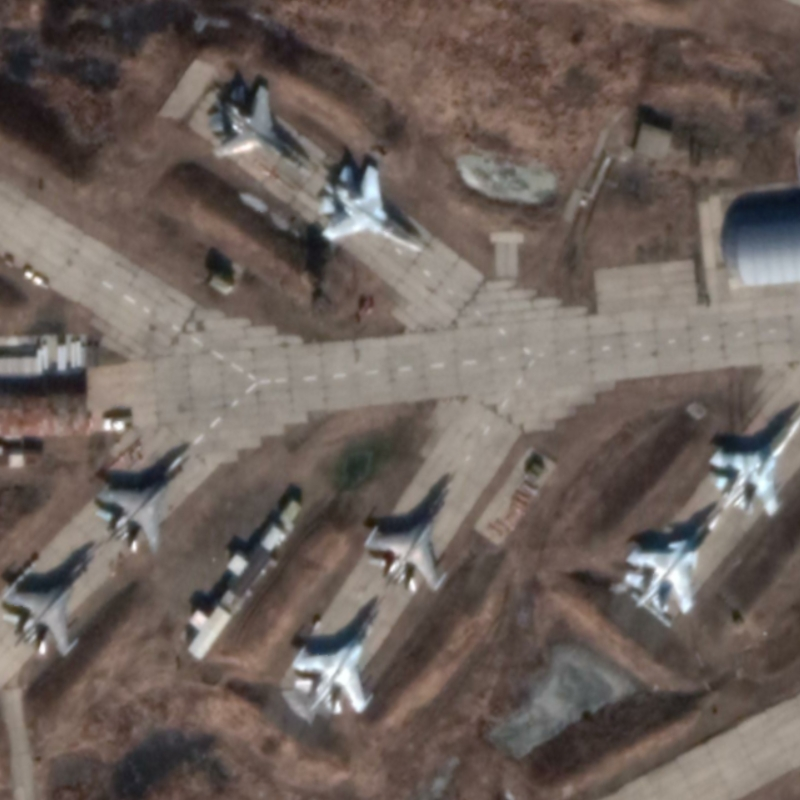A1: (706, 406, 800, 526), (315, 159, 430, 257), (287, 603, 382, 720), (359, 485, 456, 598), (203, 83, 315, 179), (1, 553, 96, 659), (96, 454, 191, 559)
A19: (623, 509, 722, 619)
